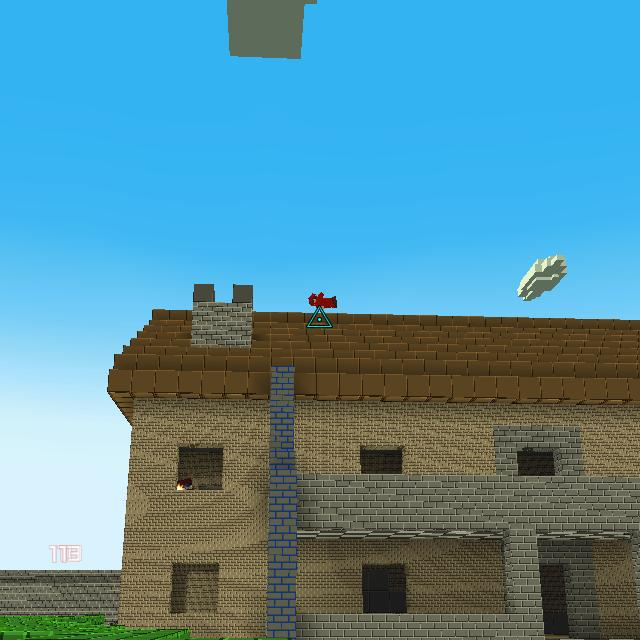enemy: (177, 476, 194, 490)
